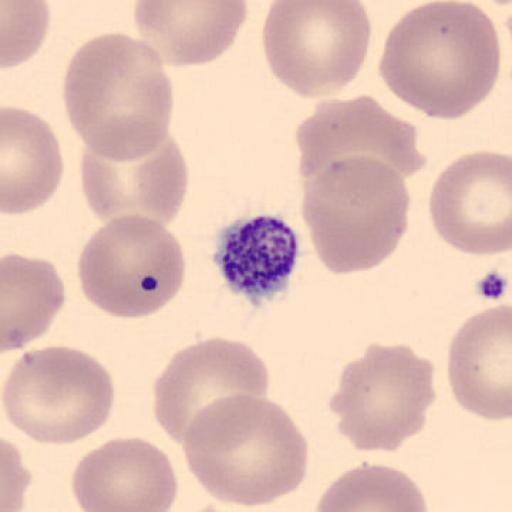Platelet: (210, 211, 303, 307)
RBC: (377, 0, 502, 121), (181, 392, 311, 508), (64, 32, 174, 163), (299, 154, 412, 276), (152, 336, 272, 448), (294, 93, 422, 198), (330, 340, 438, 453), (76, 213, 187, 320), (2, 346, 116, 446), (78, 131, 191, 231), (261, 0, 373, 100), (426, 148, 512, 257), (70, 436, 180, 512), (446, 304, 512, 421), (133, 1, 248, 68), (2, 106, 65, 216), (1, 252, 67, 352), (312, 461, 429, 512), (2, 1, 52, 70), (0, 438, 32, 512), (187, 503, 244, 511)
